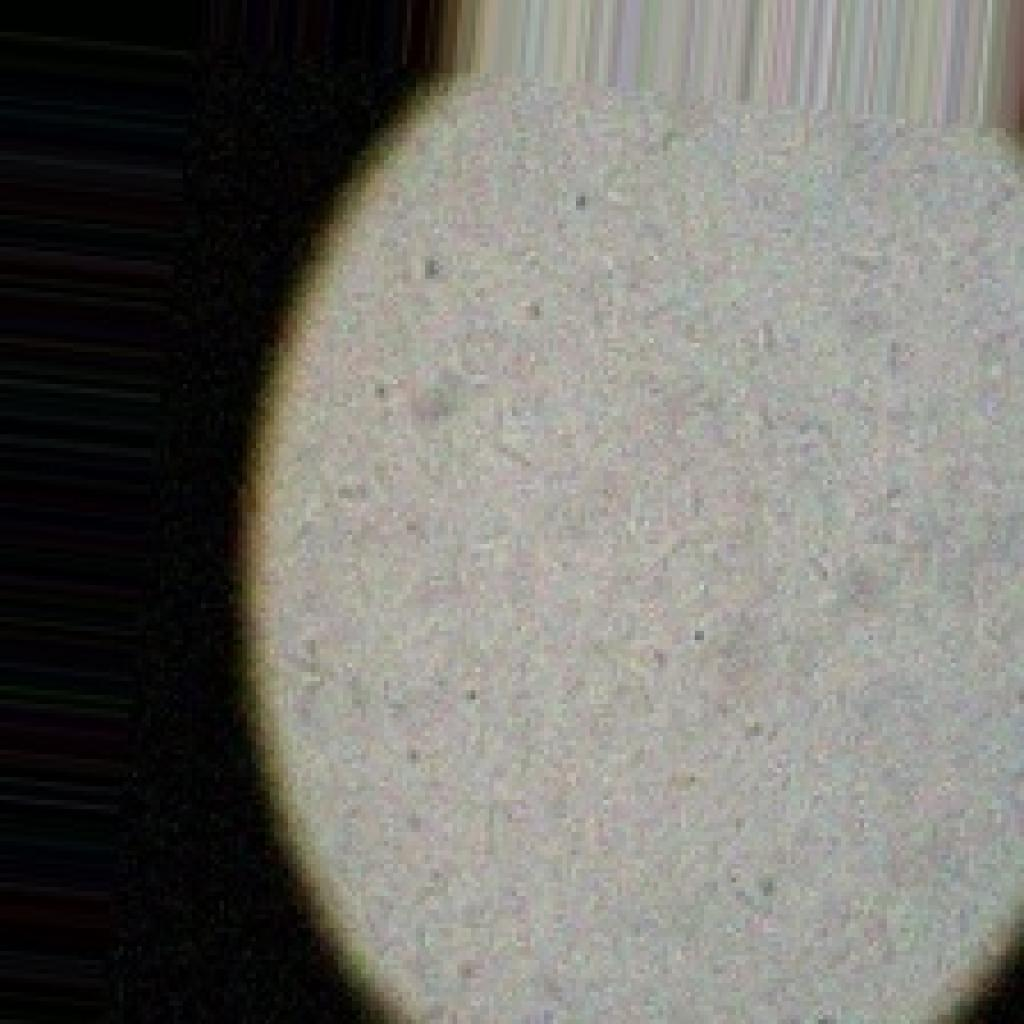Rodbacteria: (233, 64, 1020, 1019)
